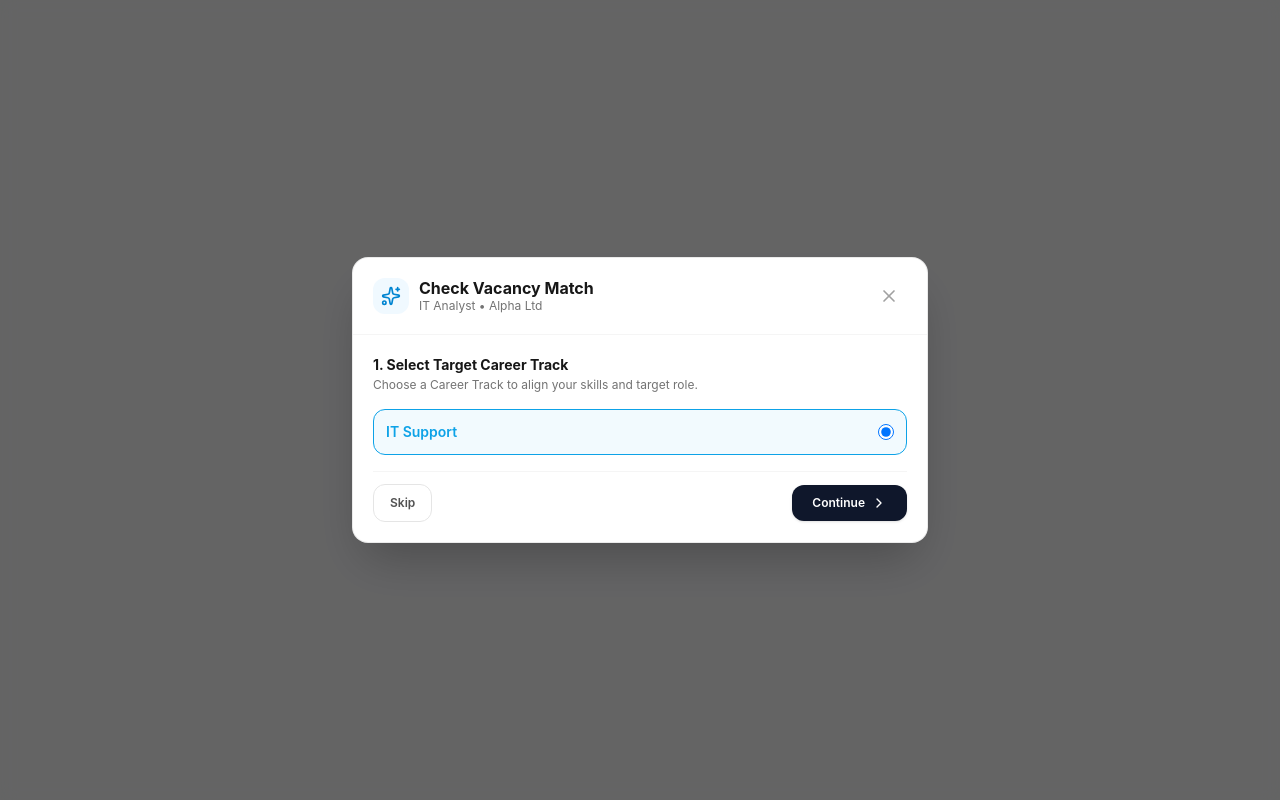
it: a partial vacancy prompts for the full description › states plainly that the vacancy has no complete description
Click the button "Continue" at (850, 503), box [792,485,907,521]
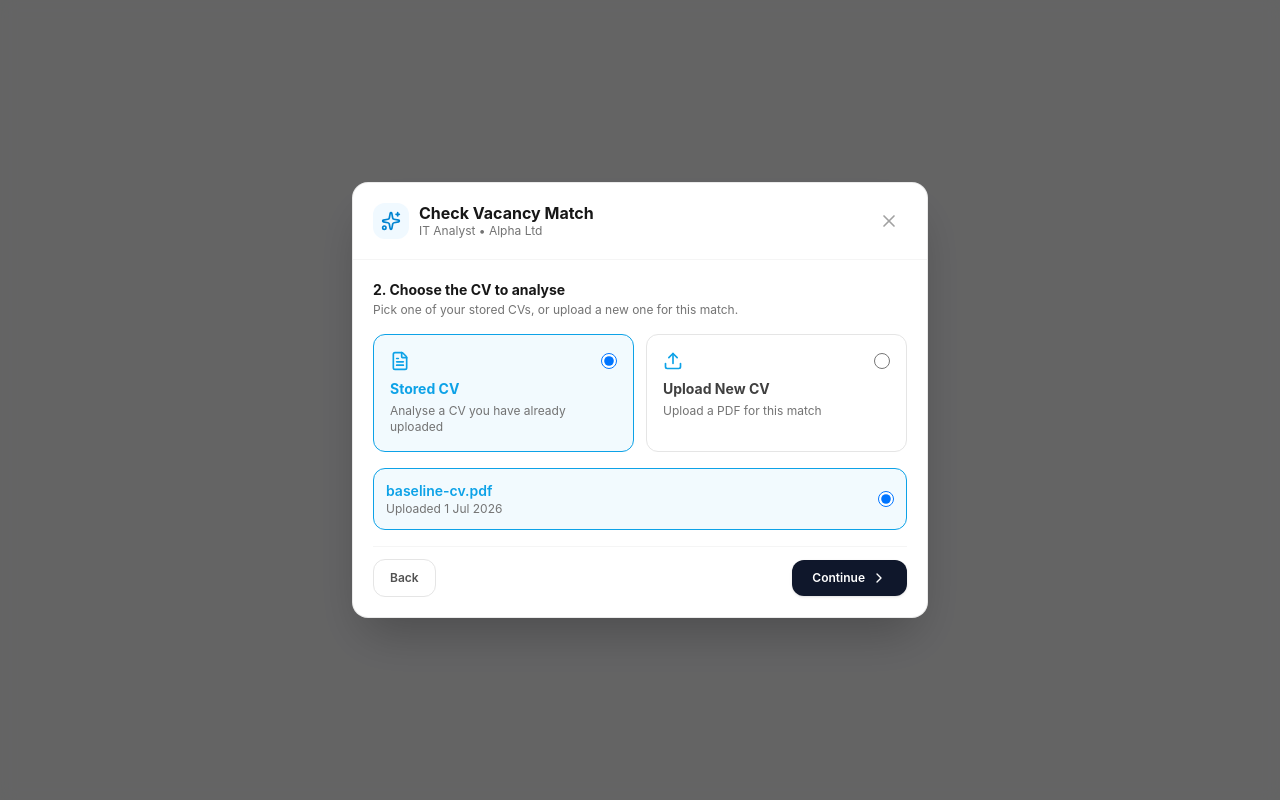
Result: the radio button labelled "baseline-cv.pdf Uploaded 1 Jul 2026" is shown at [878,491,894,507]
Click the button "Continue" at (850, 578), box [792,560,907,596]
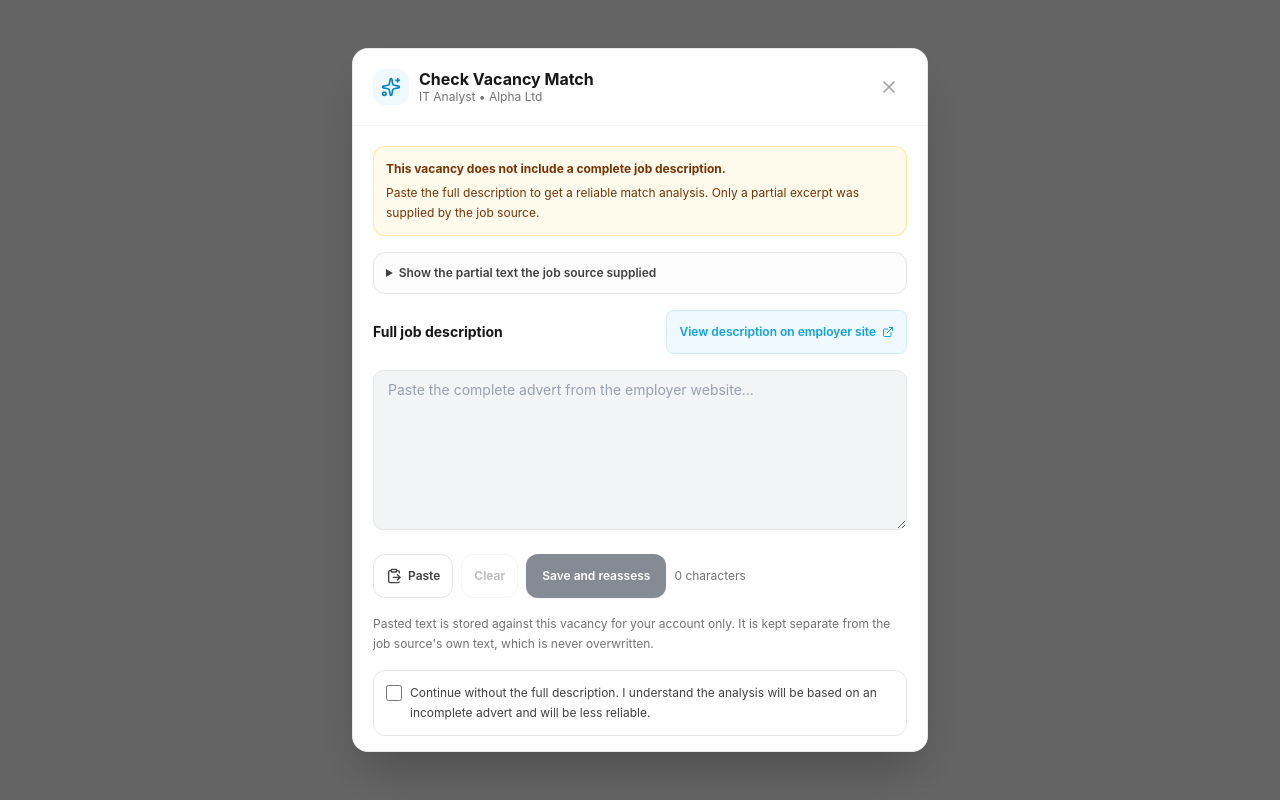
Result: the text "This vacancy does not include a complete job description." is shown at [386,161,726,176]
Result: the text "Paste the full description to get a reliable match analysis." is shown at [386,185,708,200]
